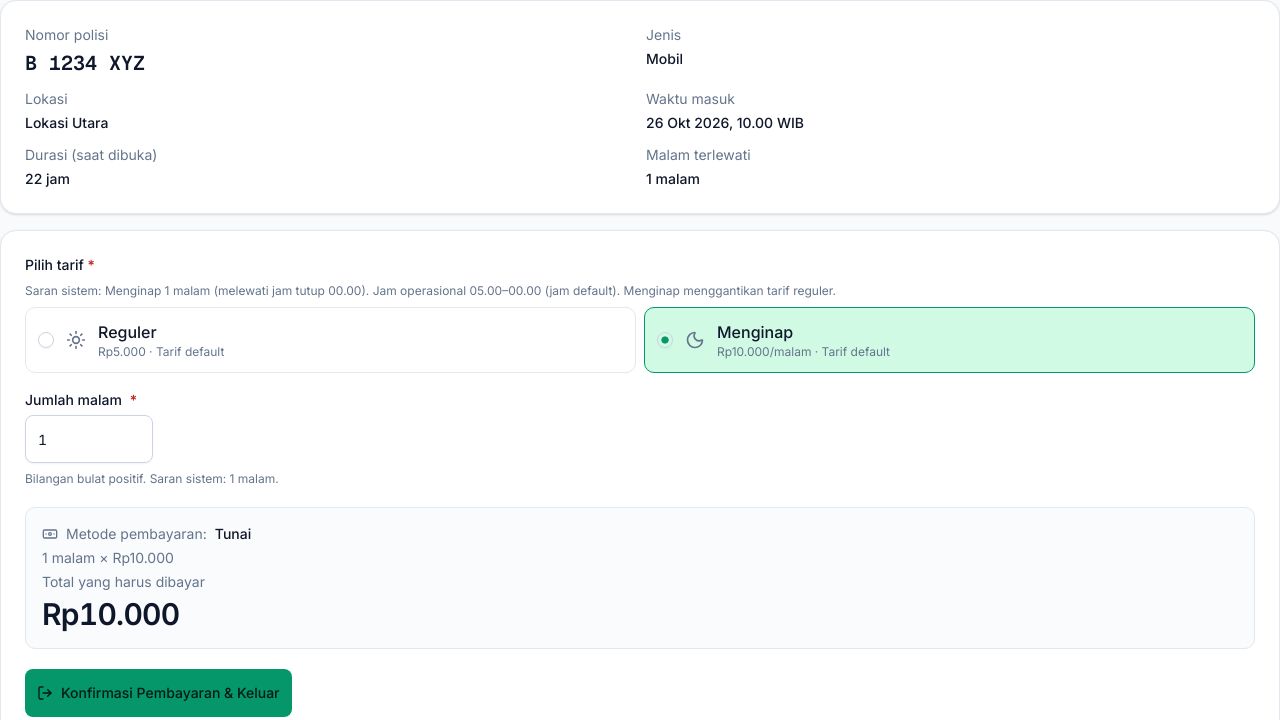
it: details and calculation (display only) › invalid night count 0 blocks confirmation
Replace the text in the field labelled "Jumlah malam *" with "0". click: (89, 439)
box: top-left (25, 415), bottom-right (153, 463)
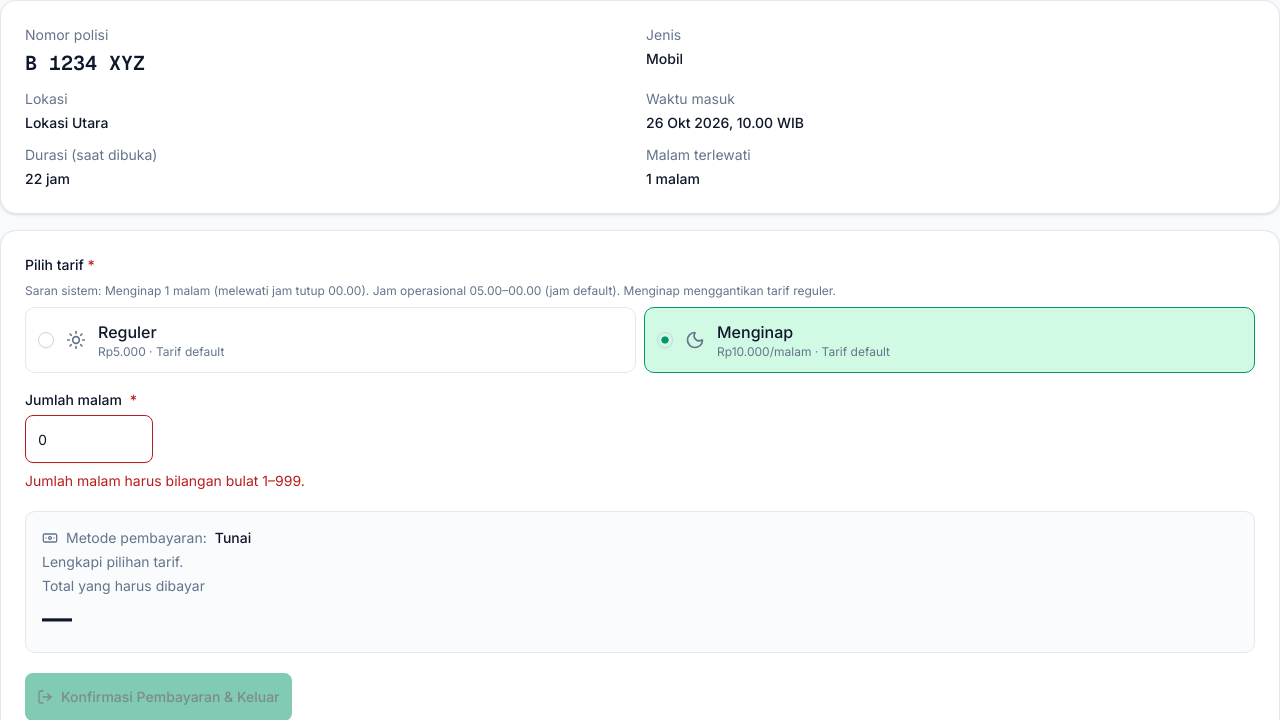
Check: the message shows "bilangan bulat", box top-left (25, 472), bottom-right (305, 489)
Check: the button "Konfirmasi Pembayaran & Keluar" is disabled, box top-left (25, 673), bottom-right (292, 719)
